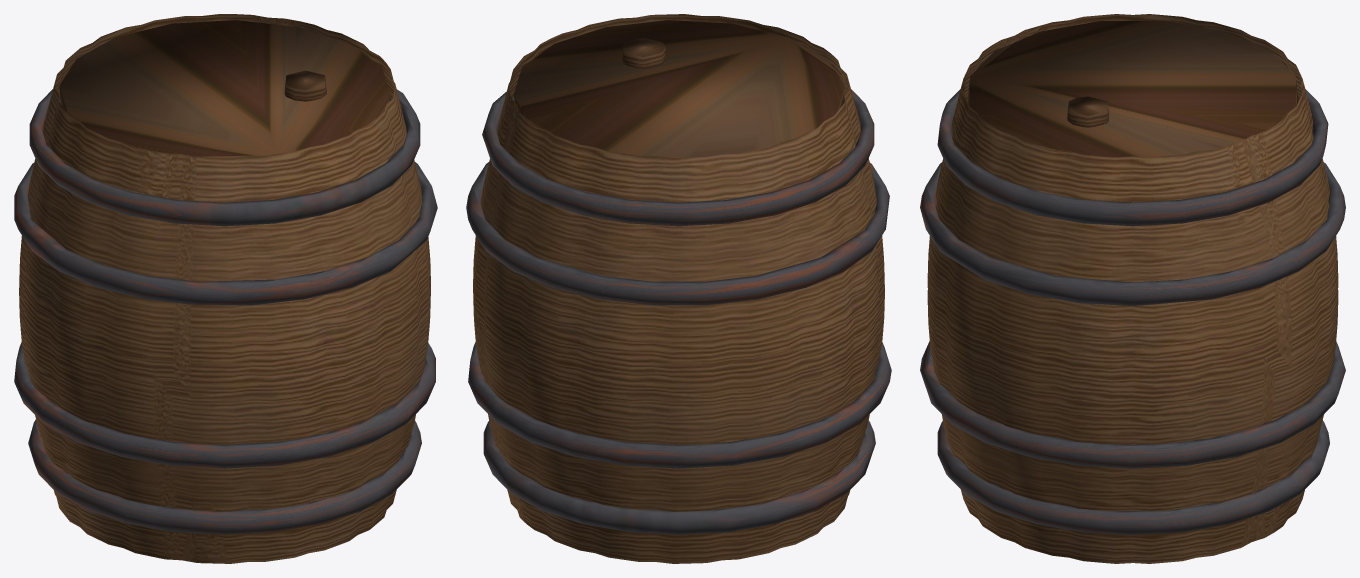
File: barrel.glb
3 views of the same model, side by side, from view 1: azimuth 30°, elevation 25°; view 2: azimuth 150°, elevation 25°; view 3: azimuth 270°, elevation 25° (orthographic).
Parts seen in each view (by area): view 1: barrel_Wood_Plank, barrel_Metal, barrel_Wood_Dark; view 2: barrel_Wood_Plank, barrel_Metal, barrel_Wood_Dark; view 3: barrel_Wood_Plank, barrel_Metal, barrel_Wood_Dark.
Part boxes in pixels (bbox=[...]): barrel_Wood_Plank: bbox=[19, 14, 430, 563]; barrel_Metal: bbox=[14, 89, 437, 534]; barrel_Wood_Dark: bbox=[59, 20, 390, 157]; barrel_Wood_Plank: bbox=[473, 14, 884, 563]; barrel_Metal: bbox=[466, 89, 891, 534]; barrel_Wood_Dark: bbox=[513, 20, 844, 157]; barrel_Wood_Plank: bbox=[927, 14, 1338, 563]; barrel_Metal: bbox=[920, 89, 1345, 535]; barrel_Wood_Dark: bbox=[967, 21, 1298, 157].
Bounding box in the file's own units: 0.9494 × 1.02 × 0.9494.
Materials: 3 (3 with a texture image).
